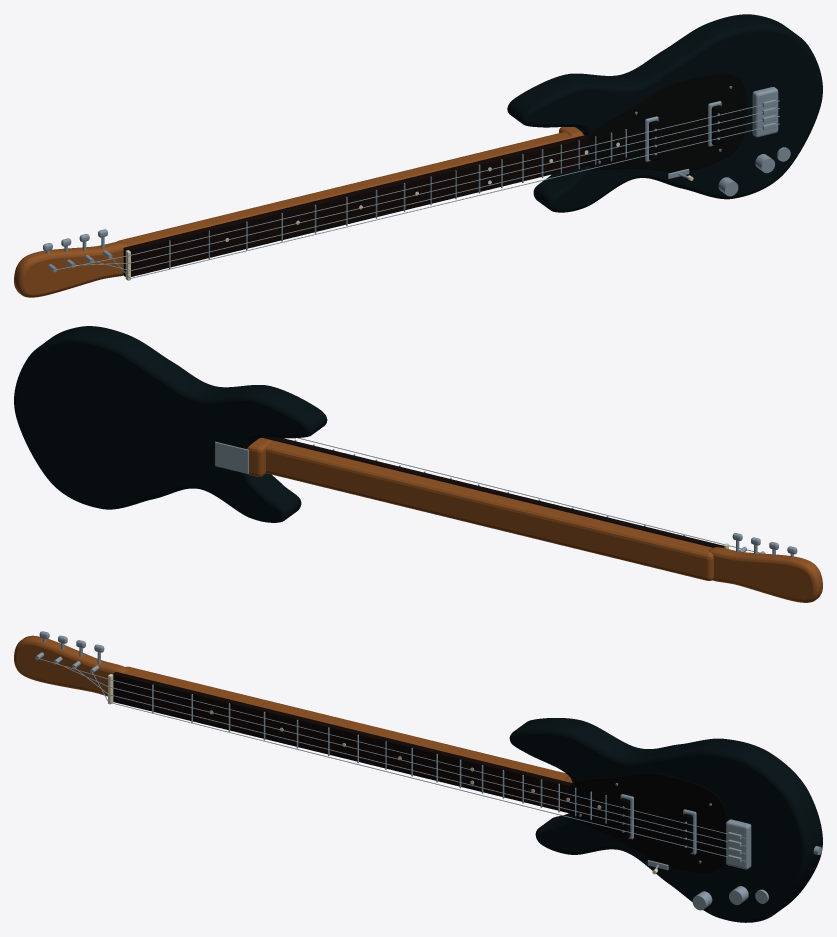
Rendered from Bass.obj.
The picture shows the model from 3 angles, top to bottom: view 1: azimuth 30°, elevation 25°; view 2: azimuth 150°, elevation 25°; view 3: azimuth 330°, elevation 25°; orthographic projection.
Visible parts, largest first — view 1: Carved_body, Rosewood_fingerboard, Inset_pickguard, Headstock, Maple_neck, Bridge, String_1, String_4, String_2, String_3; view 2: Carved_body, Maple_neck, Headstock, Rosewood_fingerboard, Neck_mounting_plate, Neck_heel, String_4; view 3: Carved_body, Rosewood_fingerboard, Inset_pickguard, Maple_neck, Headstock, Bridge, String_1, String_2, String_3, String_4.
Part boxes in pixels (bbox=[...]): Carved_body: bbox=[507, 14, 822, 212]; Rosewood_fingerboard: bbox=[123, 135, 588, 276]; Inset_pickguard: bbox=[585, 73, 747, 171]; Headstock: bbox=[14, 241, 129, 297]; Maple_neck: bbox=[116, 132, 583, 245]; Bridge: bbox=[752, 87, 778, 137]; String_1: bbox=[130, 123, 779, 278]; String_4: bbox=[130, 100, 779, 255]; String_2: bbox=[130, 116, 779, 270]; String_3: bbox=[130, 108, 779, 263]; Carved_body: bbox=[14, 326, 327, 522]; Maple_neck: bbox=[263, 438, 713, 580]; Headstock: bbox=[709, 547, 822, 602]; Rosewood_fingerboard: bbox=[264, 437, 724, 547]; Neck_mounting_plate: bbox=[215, 441, 248, 473]; Neck_heel: bbox=[247, 438, 271, 476]; String_4: bbox=[297, 438, 724, 544]; Carved_body: bbox=[509, 718, 822, 922]; Rosewood_fingerboard: bbox=[113, 672, 572, 813]; Inset_pickguard: bbox=[567, 772, 727, 873]; Maple_neck: bbox=[123, 666, 572, 782]; Headstock: bbox=[14, 635, 127, 696]; Bridge: bbox=[726, 819, 751, 869]; String_1: bbox=[108, 702, 745, 861]; String_2: bbox=[108, 694, 745, 853]; String_3: bbox=[108, 686, 744, 846]; String_4: bbox=[108, 679, 745, 838].
Bounding box in the file's own units: 1.54 × 0.3086 × 0.0959.
